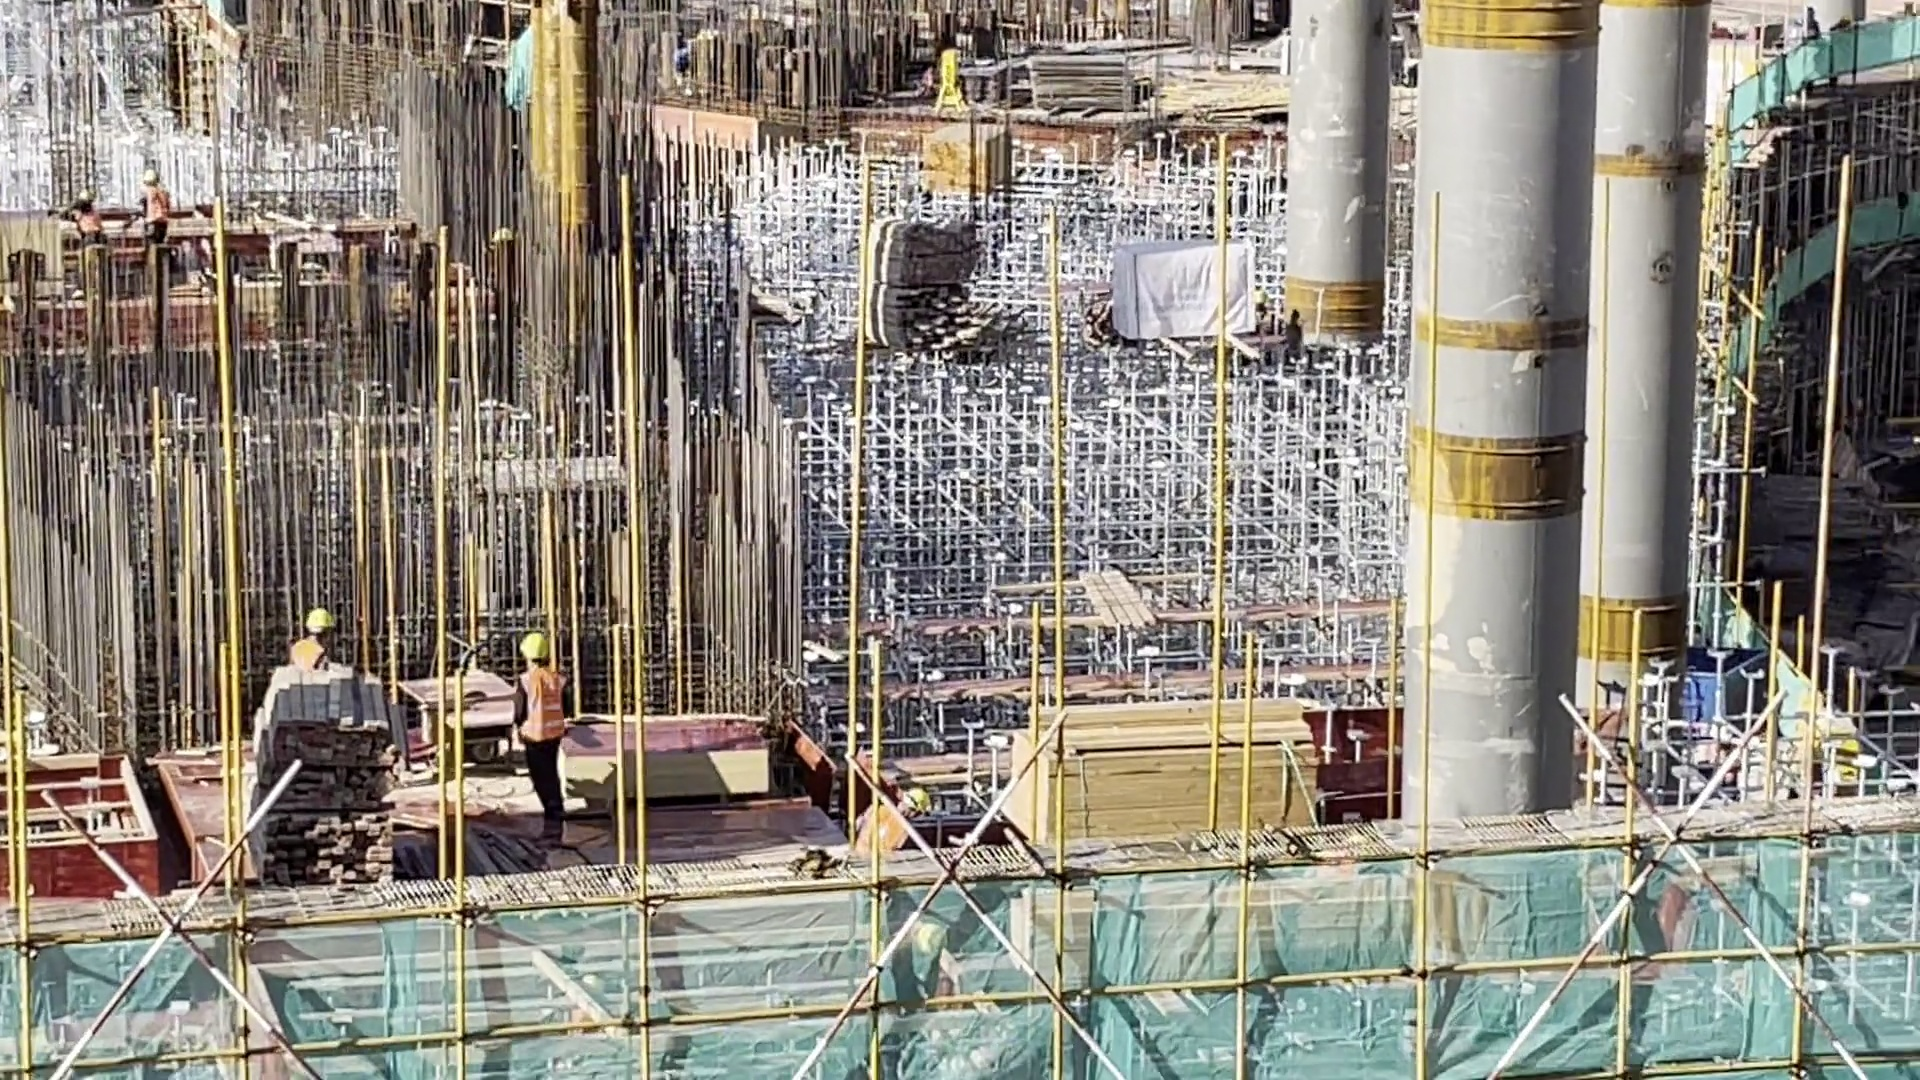helmet: (512, 626, 555, 659), (300, 607, 334, 638), (900, 782, 929, 809)
person: (499, 630, 589, 854), (851, 758, 940, 860), (284, 600, 338, 690), (128, 160, 173, 246), (59, 179, 100, 258)
vest: (853, 793, 912, 864), (515, 668, 567, 745), (290, 634, 331, 676)
